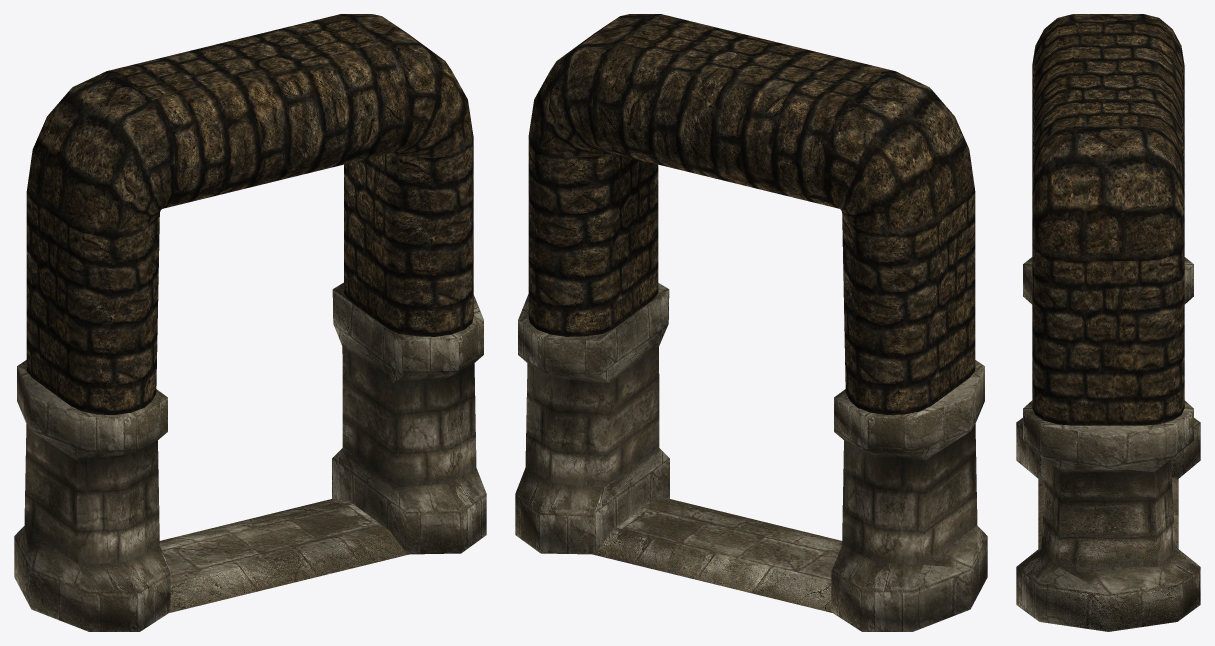
File: door_frame_plain_worn.dae
3 views of the same model, side by side, from view 1: azimuth 30°, elevation 25°; view 2: azimuth 150°, elevation 25°; view 3: azimuth 270°, elevation 25° (orthographic). The views are drawn at different scales.
Visible parts, largest first — view 1: polySurface135, polySurface137; view 2: polySurface135, polySurface137; view 3: polySurface135, polySurface137.
Part boxes in pixels (bbox=[...]): polySurface135: bbox=[26, 14, 473, 414]; polySurface137: bbox=[14, 282, 486, 631]; polySurface135: bbox=[528, 14, 975, 414]; polySurface137: bbox=[515, 283, 987, 631]; polySurface135: bbox=[1032, 14, 1184, 425]; polySurface137: bbox=[1016, 257, 1200, 631].
Size of the model in its own units: 3.33 by 3.59 by 1.31.
